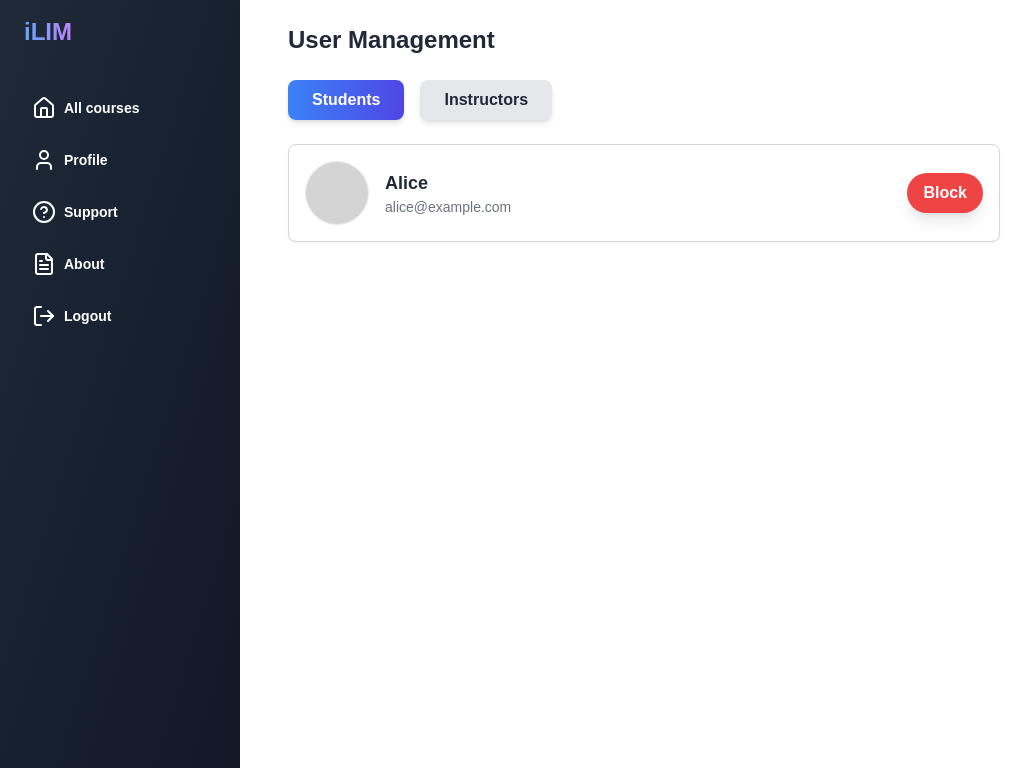
UserManagement Component › should display user details in a modal and allow closing it
Click the text "Alice": [406, 183] box x1=385 y1=173 x2=428 y2=193
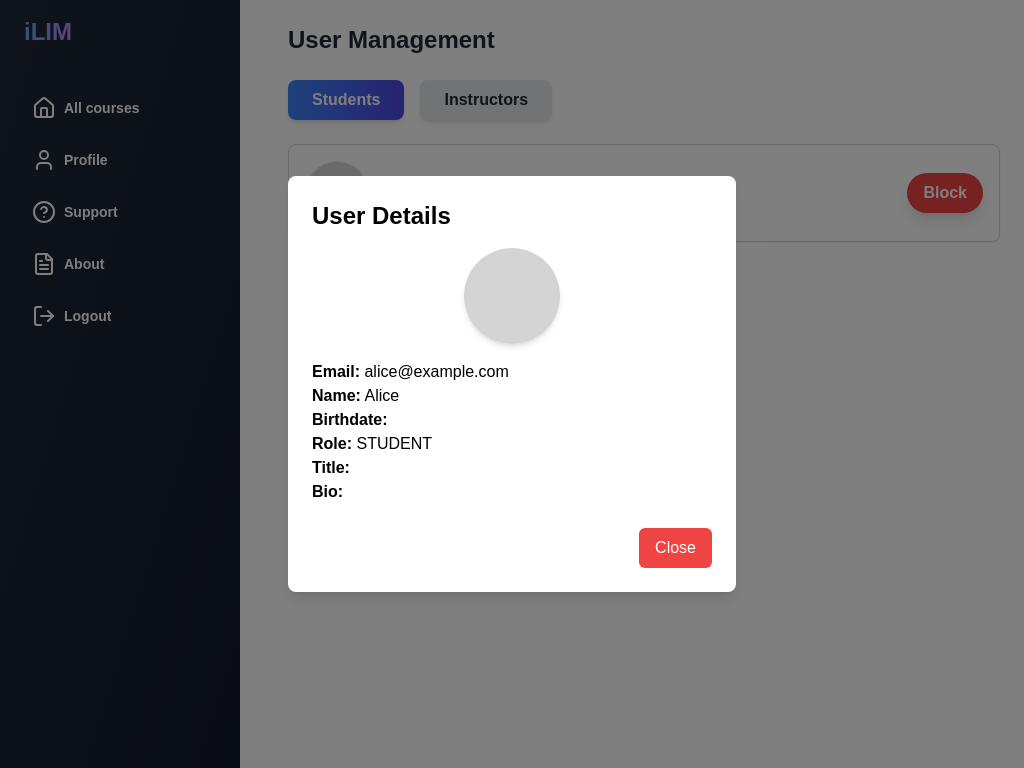
Expected: the heading "User Details" is shown, x1=312 y1=202 x2=451 y2=229
Click the button "Close": [676, 548] box x1=639 y1=528 x2=712 y2=568
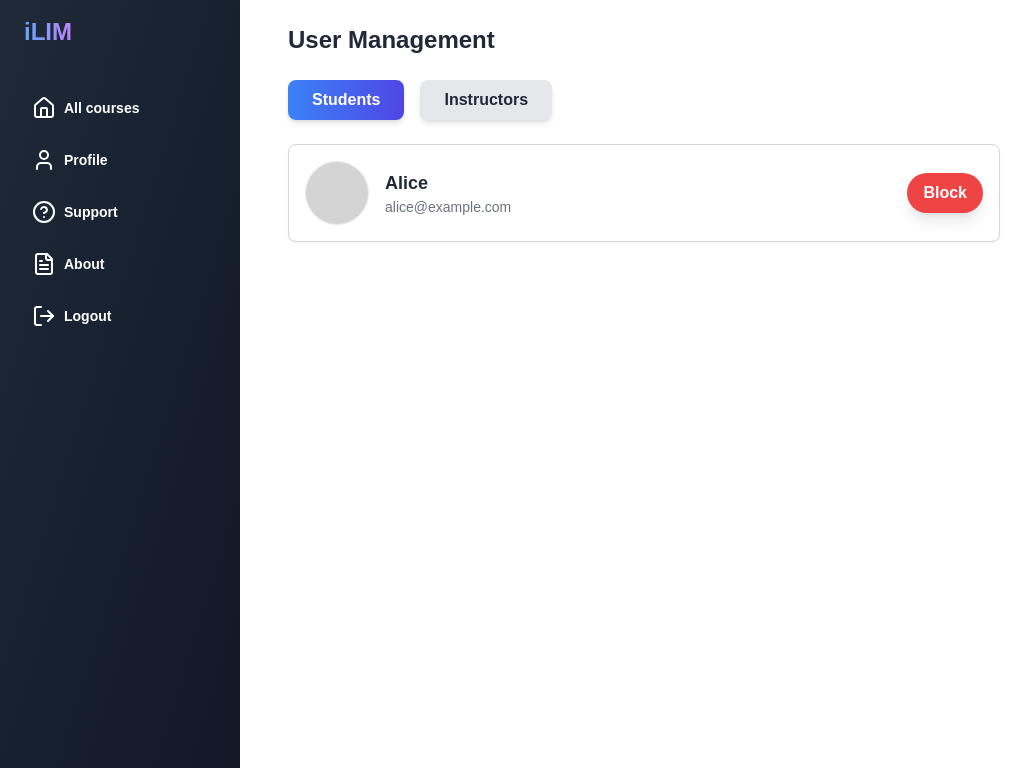
Expected: the heading "User Details" is gone
